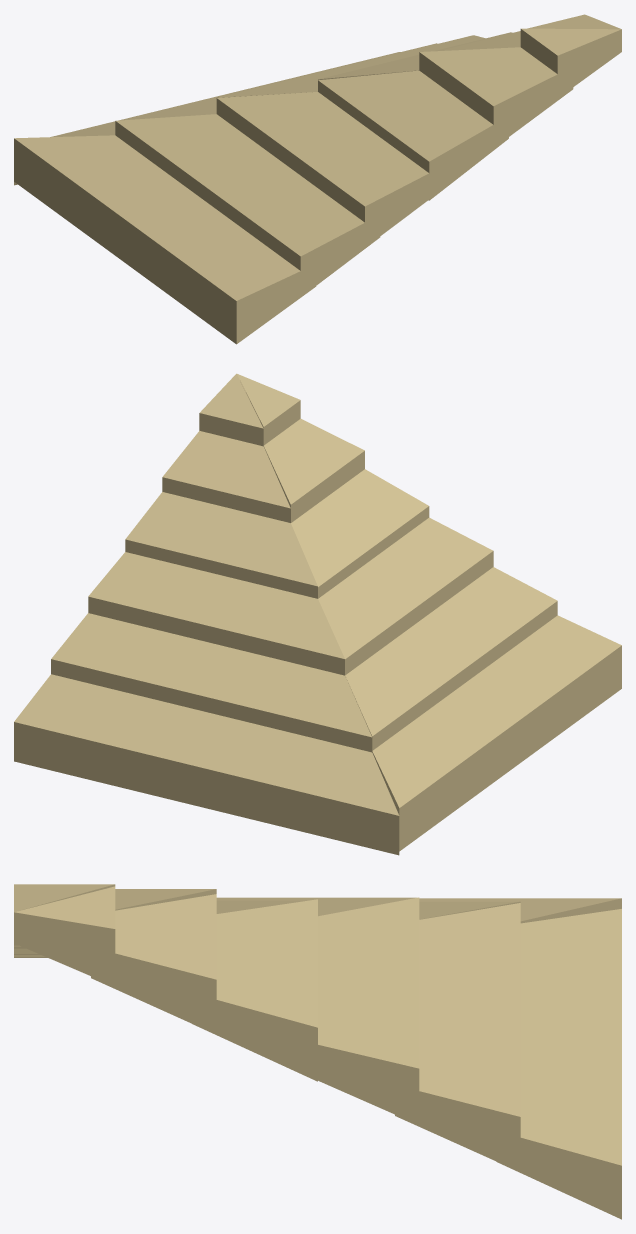
The model's file is thatch_roof_outer_low.glb.
The picture shows the model from 3 angles, top to bottom: view 1: azimuth 30°, elevation 25°; view 2: azimuth 150°, elevation 25°; view 3: azimuth 270°, elevation 25°; orthographic projection. The views are drawn at different scales.
Visible parts, largest first — view 1: Roof; view 2: Roof; view 3: Roof.
Boxes of the visible parts, x1=… form: Roof: x1=14, y1=14, x2=621, y2=344; Roof: x1=14, y1=373, x2=621, y2=855; Roof: x1=14, y1=884, x2=621, y2=1219.
Size of the model in its own units: 3 by 1.67 by 3.
